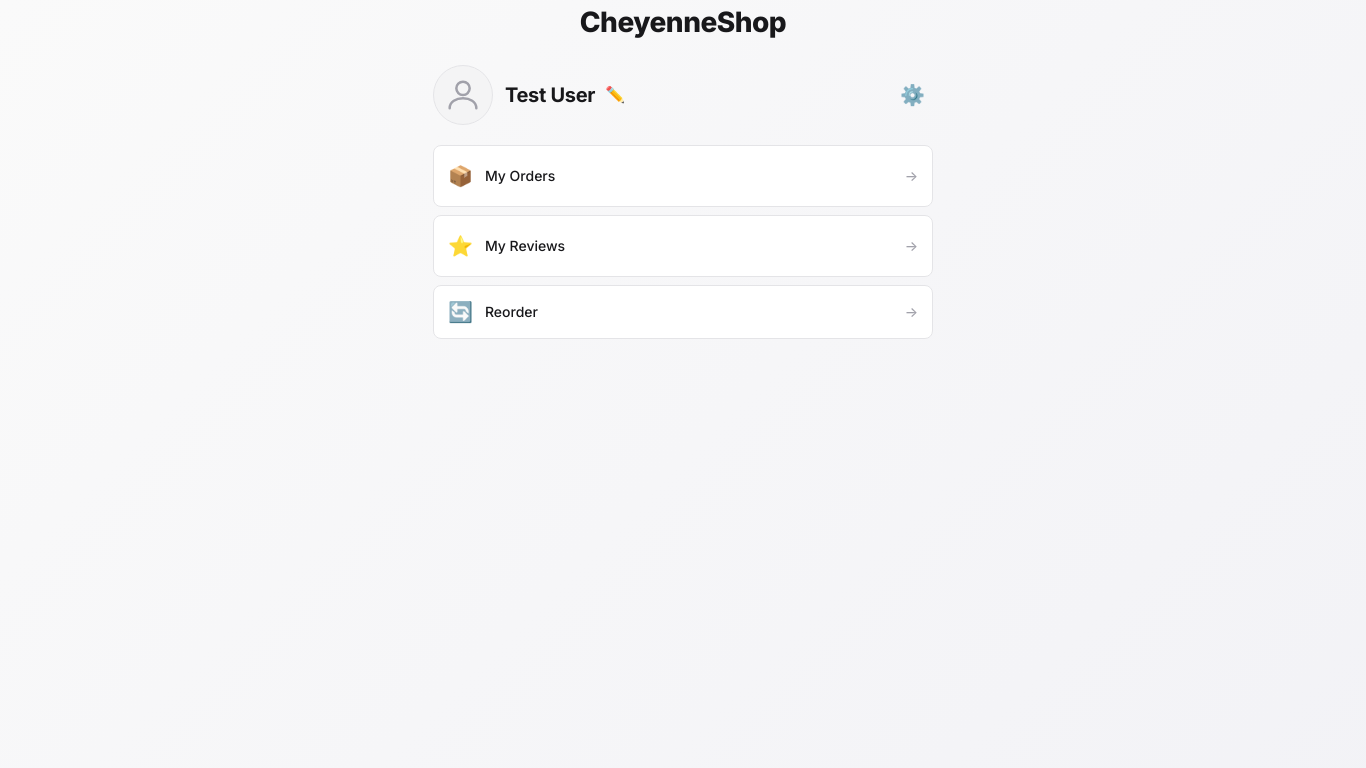
Profile › Edit Modal › should open edit modal when edit button clicked
The image size is (1366, 768).
Click the button "✏️" at (615, 95), box [601, 81, 629, 108]
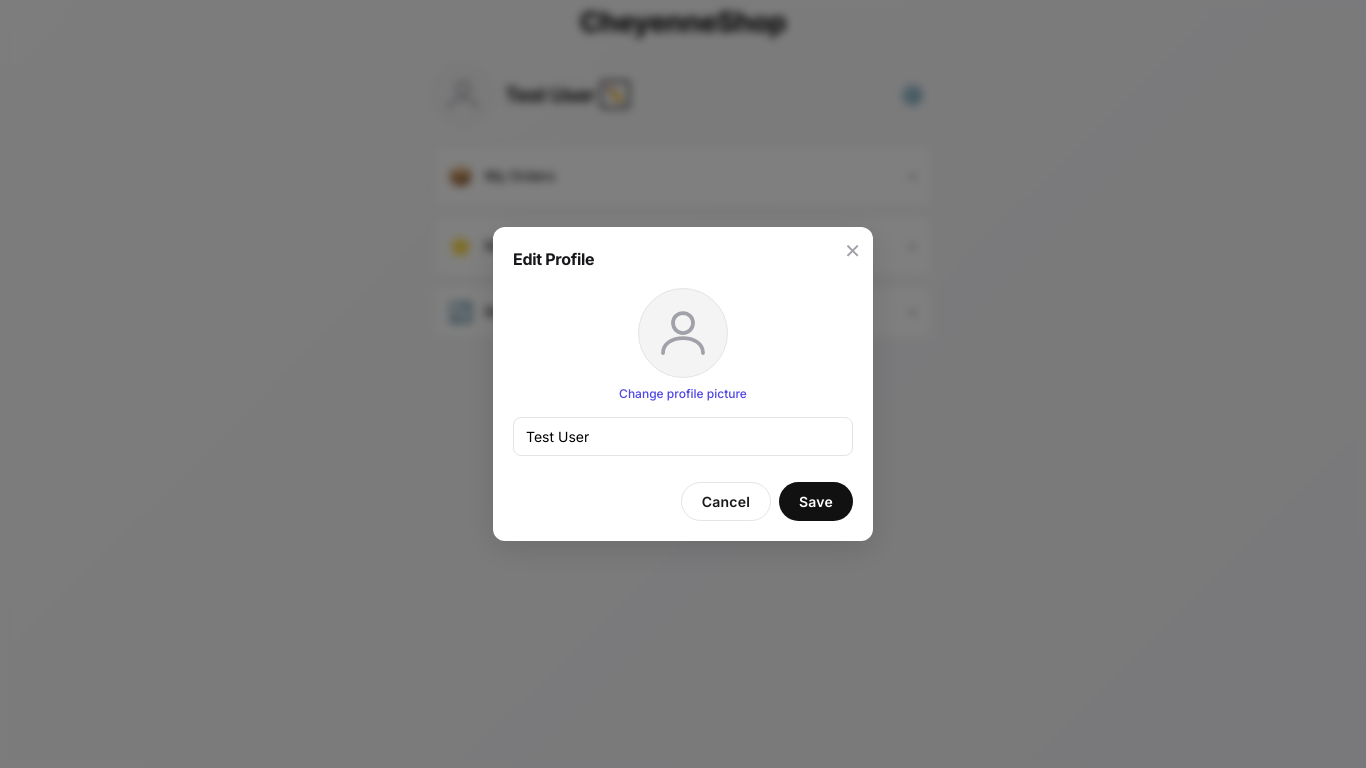
Expected: the heading "Edit Profile" is shown, [513, 249, 594, 269]
